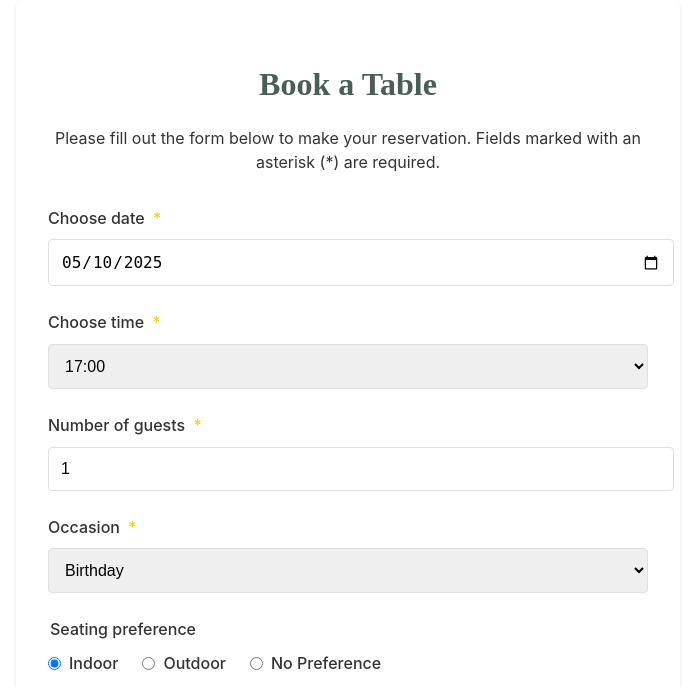
Test: BookingForm Component › date validation: shows error for past date and disables submit
This screenshot has width=697, height=687.
Type "2020-01-15" into the date field labelled "Choose date *" at (361, 263), box x1=48 y1=239 x2=674 y2=286
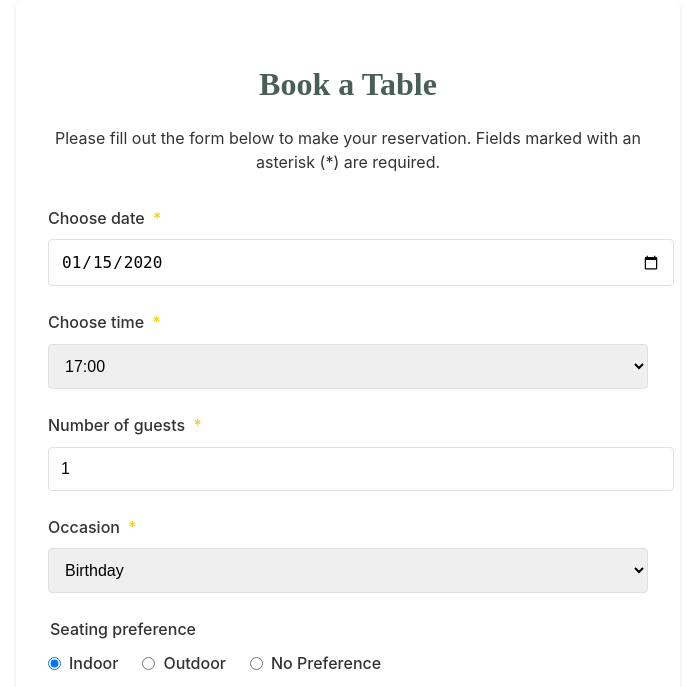
Leave the date field labelled "Choose date *", box x1=48 y1=239 x2=674 y2=286
(page scrolled)
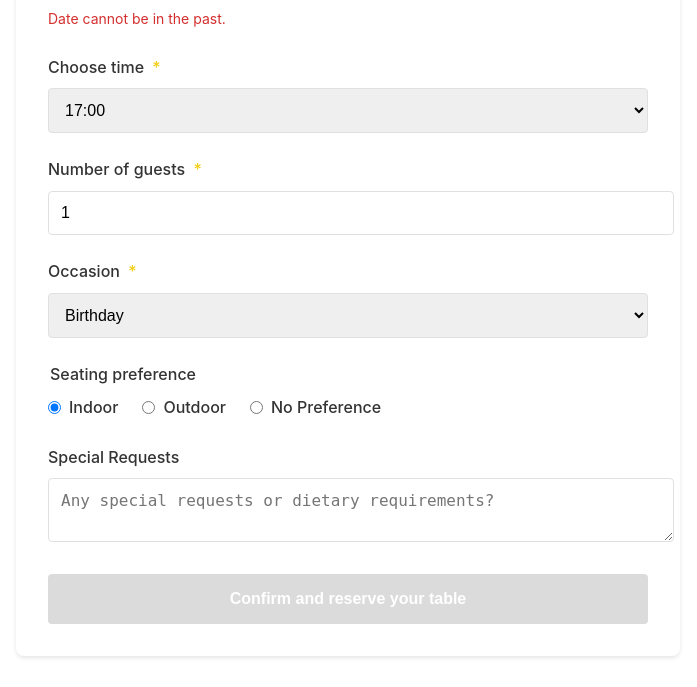
Check: the button "Confirm and reserve your table" is disabled, box x1=48 y1=574 x2=648 y2=624
Check: the text "Date cannot be in the past." is shown, box x1=48 y1=10 x2=226 y2=27
